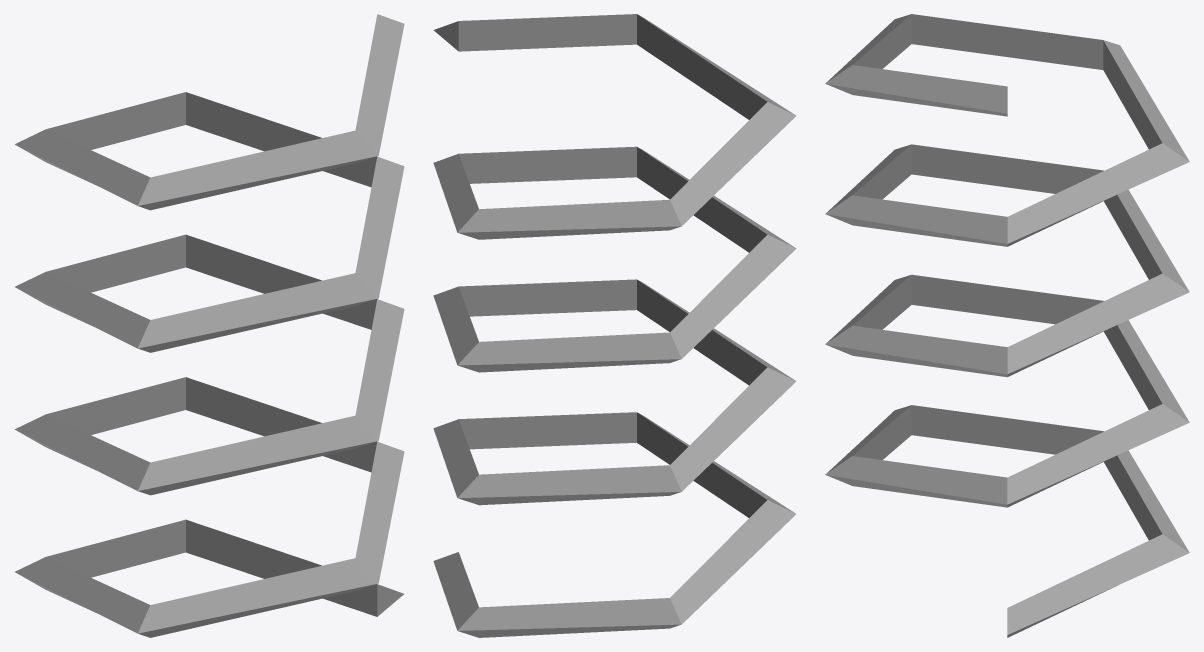
File: Spring.fbx
3 views of the same model, side by side, from view 1: azimuth 30°, elevation 25°; view 2: azimuth 150°, elevation 25°; view 3: azimuth 270°, elevation 25° (orthographic). The views are drawn at different scales.
Visible parts, largest first — view 1: Spring; view 2: Spring; view 3: Spring.
Part boxes in pixels (bbox=[...]): Spring: bbox=[15, 14, 404, 637]; Spring: bbox=[433, 14, 796, 637]; Spring: bbox=[825, 14, 1189, 637].
Size of the model in its own units: 16.2 by 28.42 by 17.03.
1 material, 1 textured.
